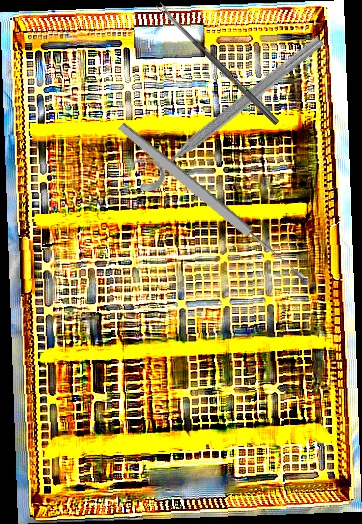Fixation Ring: (123, 20, 329, 198)
Surgical Spoon: (116, 120, 308, 284), (156, 1, 280, 126)
